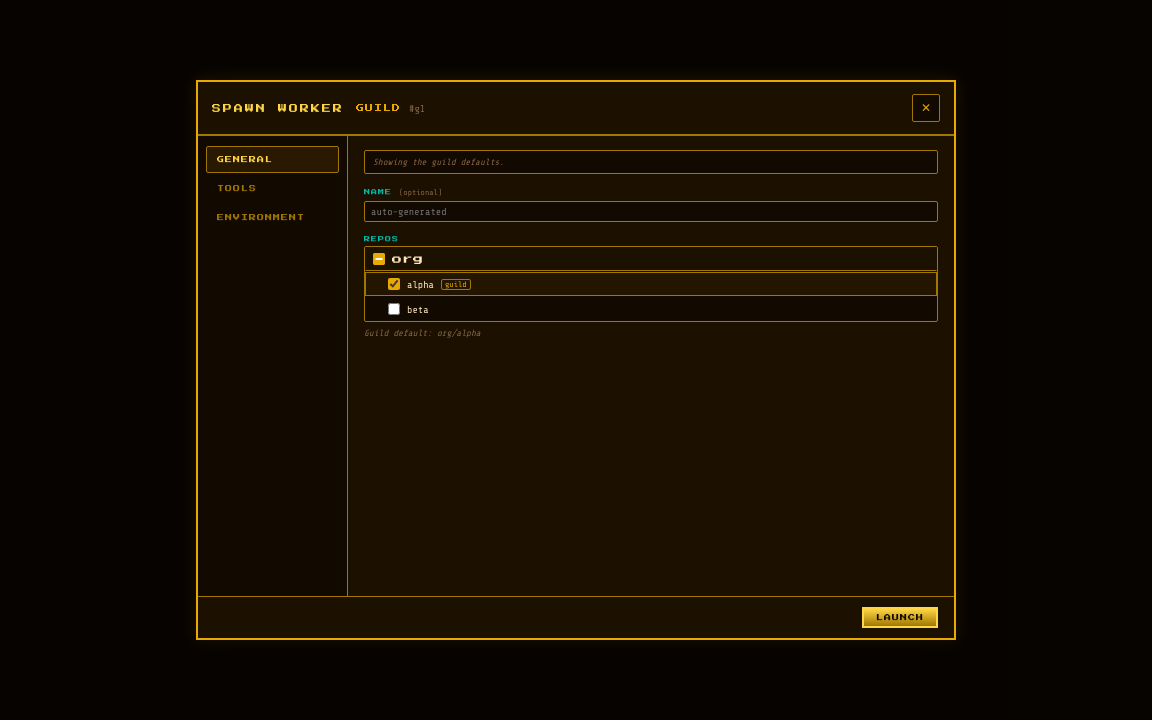
SpawnWorkerForm guild defaults and saved settings › prefills from the guild defaults and labels them
This screenshot has width=1152, height=720.
Expected: the text with class "spawn-badge" reads "guild", [445,280,467,288]
Click the button with class "settings-tab" showing "Tools": click(272, 188) [206,175,339,202]
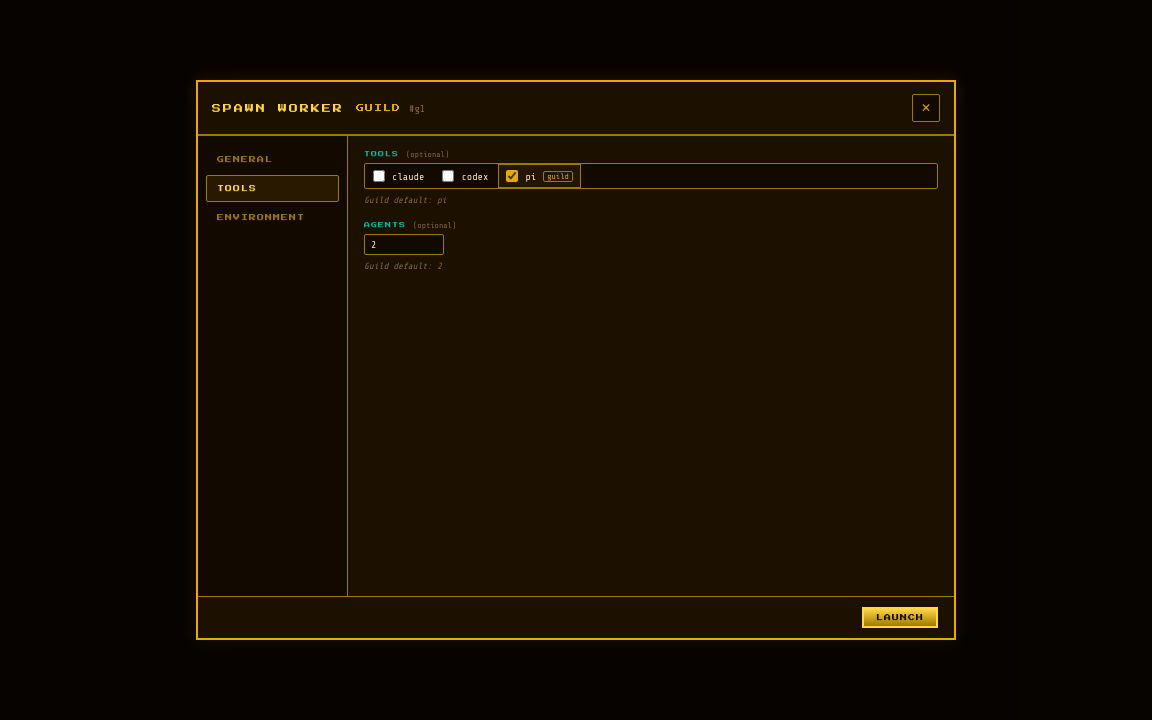
Result: the text "Guild default: pi" is shown at [364,195,447,205]
Result: the text "Guild default: 2" is shown at [364,261,442,271]
